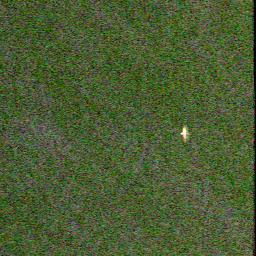Ship: (178, 122, 188, 145)
